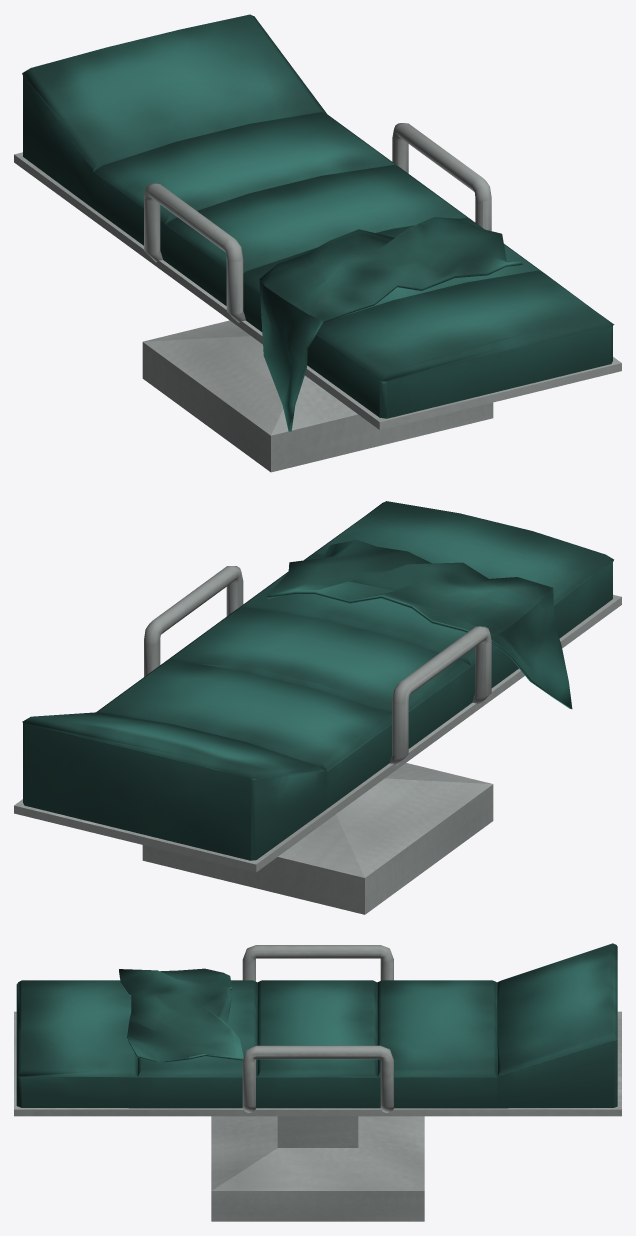
File: Dark_HospitalBed.fbx
3 views of the same model, one above another, from view 1: azimuth 30°, elevation 25°; view 2: azimuth 150°, elevation 25°; view 3: azimuth 270°, elevation 25° (orthographic). The views are drawn at different scales.
Visible parts, largest first — view 1: Bed; view 2: Bed; view 3: Bed.
Part boxes in pixels (x1=…): Bed: x1=14, y1=14, x2=621, y2=472; Bed: x1=14, y1=501, x2=621, y2=914; Bed: x1=14, y1=943, x2=621, y2=1221.
Bounding box in the file's own units: 114 × 92.36 × 265.
3 materials, 3 textured.
